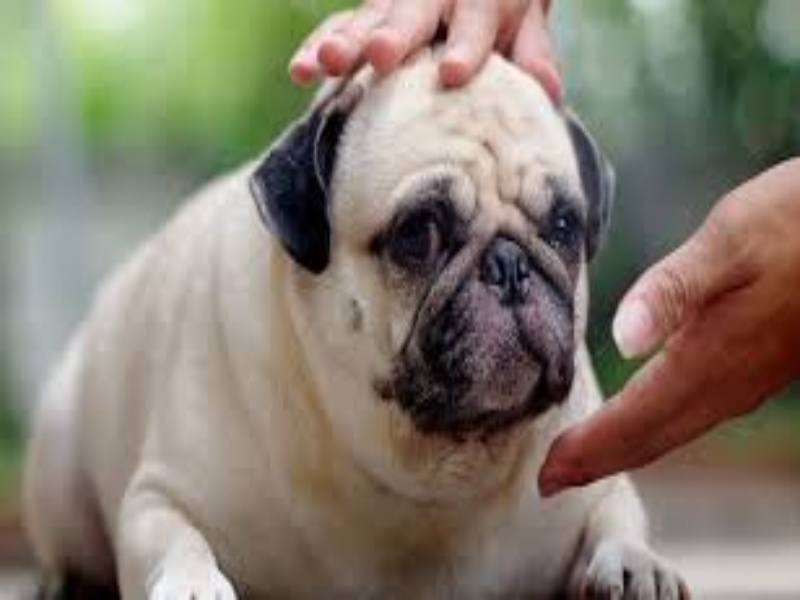dog: (186, 24, 691, 573)
